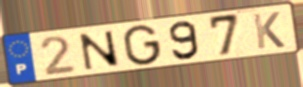2: (38, 35, 78, 78)
7: (206, 12, 243, 59)
9: (168, 20, 201, 61)
G: (122, 23, 163, 67)
K: (250, 10, 287, 51)
N: (77, 29, 123, 72)
